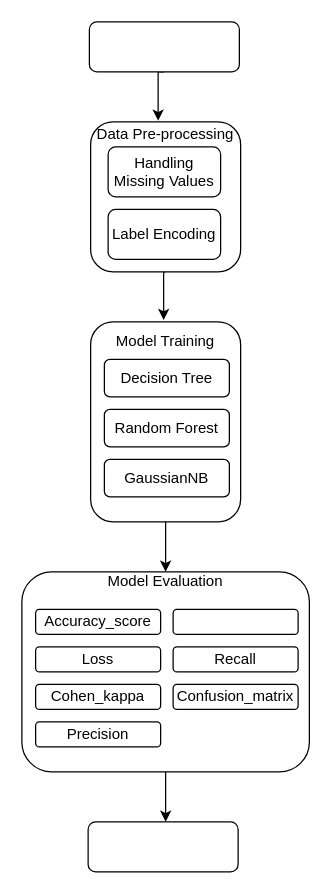
Image size: 331x894. Some labels were removed from this diagram. The shapes that lost their labels are listed below. From the top down, each one's centre as x and y in pixels, then its label:
point 163,46: Data Collection
point 235,621: F1-score
point 162,846: Model Deployment
